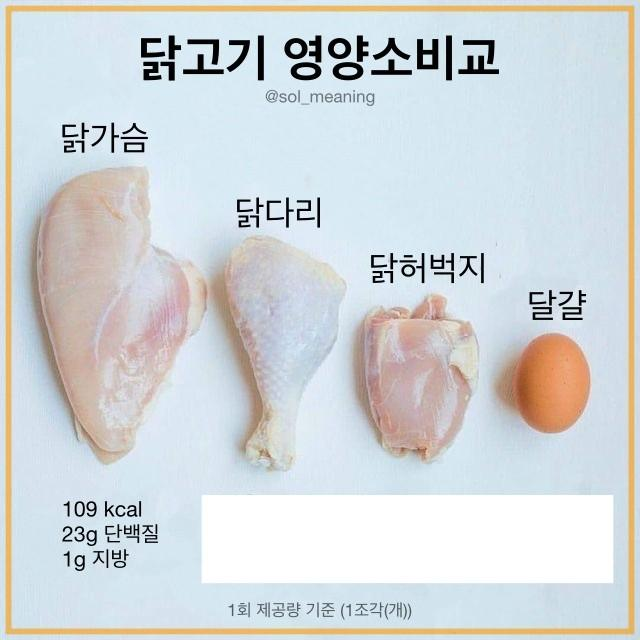chicken: (31, 156, 203, 472), (212, 238, 349, 467), (363, 290, 485, 464)
